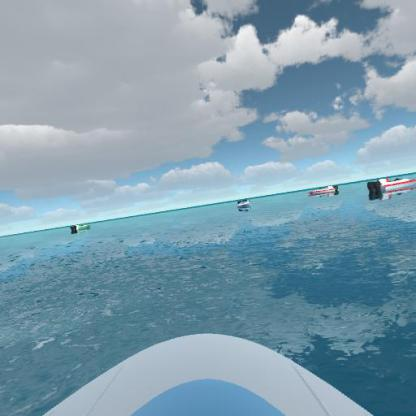usv0: (70, 218, 92, 235)
usv1: (233, 196, 258, 211)
usv3: (362, 171, 415, 198), (306, 184, 344, 199)
